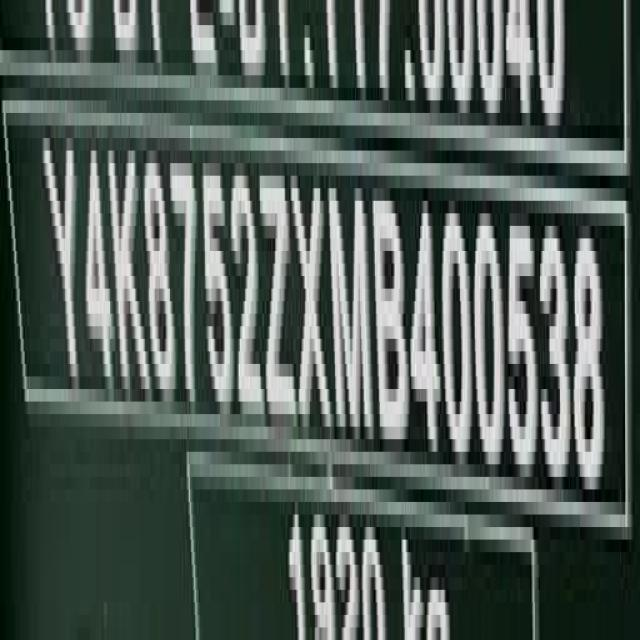0: (439, 190, 474, 470), (474, 191, 505, 478)
2: (228, 158, 264, 437)
3: (538, 195, 574, 507)
4: (408, 176, 442, 478), (81, 135, 116, 409)
5: (200, 135, 234, 432), (507, 195, 538, 488)
7: (173, 140, 201, 432)
8: (141, 102, 178, 428), (572, 228, 605, 502)
B: (371, 158, 410, 451)
K: (108, 130, 152, 418)
M: (328, 177, 376, 460)
X: (291, 167, 334, 446)
Y: (40, 116, 80, 418)
Z: (258, 158, 296, 428)
